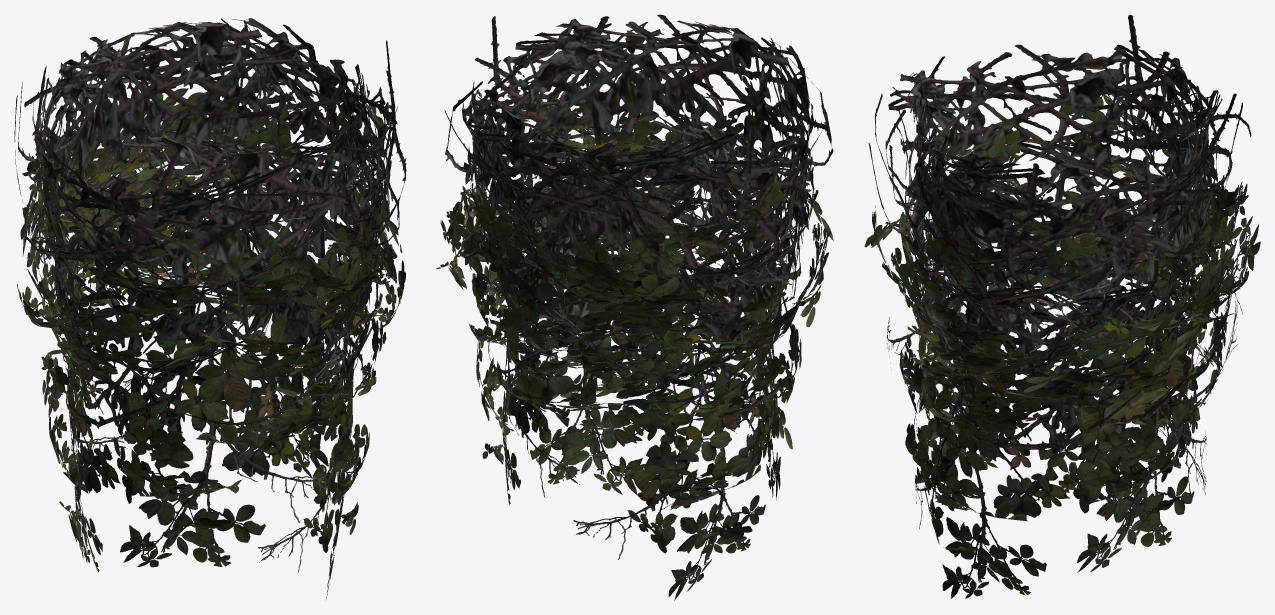
The model's file is Sponza97.gltf.
The picture shows the model from 3 angles, left to right: view 1: azimuth 30°, elevation 25°; view 2: azimuth 150°, elevation 25°; view 3: azimuth 270°, elevation 25°; orthographic projection. The views are drawn at different scales.
Bounding box in the file's own units: 0.7315 × 1 × 0.7425.
Materials: 1 (1 with a texture image).
